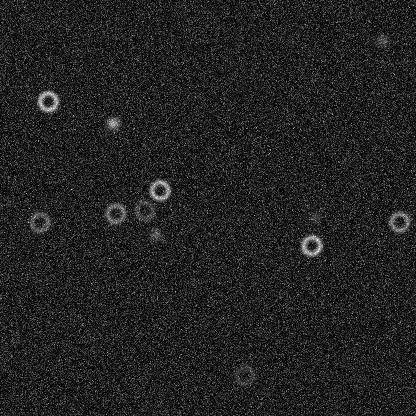Ring: (147, 178, 171, 202), (387, 209, 411, 233), (299, 233, 323, 257), (35, 89, 59, 113), (232, 363, 256, 387), (132, 198, 156, 222), (103, 201, 127, 225), (27, 210, 51, 234)
Spot: (147, 226, 163, 242), (104, 115, 120, 131), (307, 209, 323, 225), (374, 32, 390, 48)
